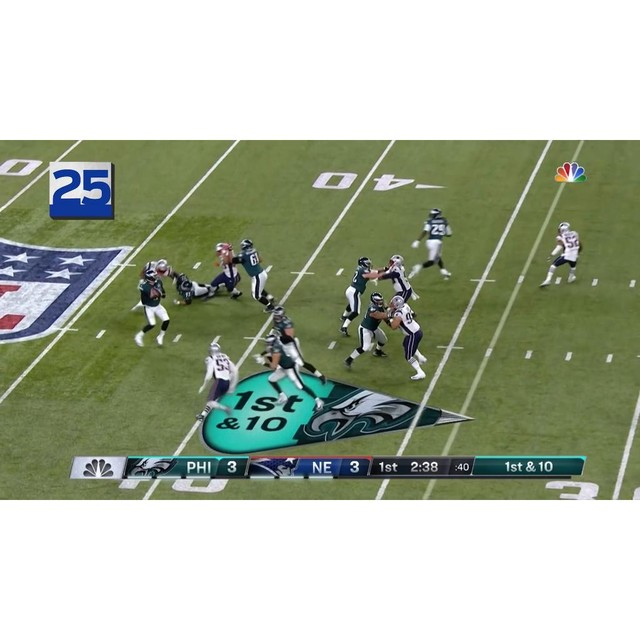american-football-player: (261, 330, 324, 411), (270, 306, 325, 382), (343, 292, 395, 371), (339, 256, 386, 338), (386, 296, 429, 382), (410, 208, 453, 280), (199, 337, 239, 414), (236, 238, 277, 312), (134, 271, 171, 348), (539, 222, 582, 288), (375, 254, 415, 304), (209, 242, 242, 302), (171, 272, 218, 304)
